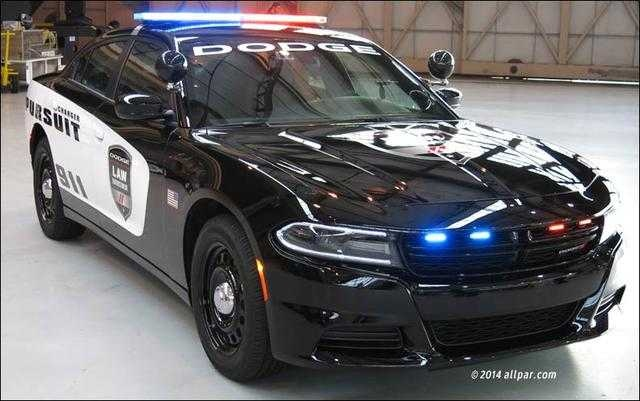Police Car: (20, 11, 600, 353)
